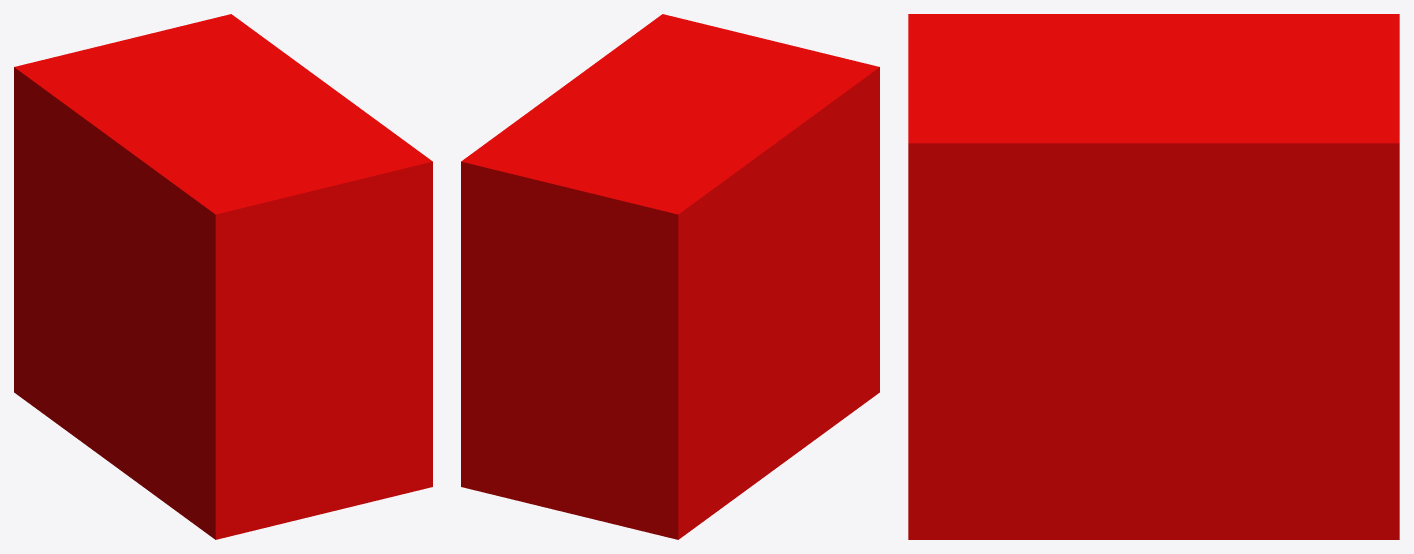
File: ribs_col.dae
The picture shows the model from 3 angles, left to right: view 1: azimuth 30°, elevation 25°; view 2: azimuth 150°, elevation 25°; view 3: azimuth 270°, elevation 25°; orthographic projection. The views are drawn at different scales.
Visible parts, largest first — view 1: node0; view 2: node0; view 3: node0.
Boxes of the visible parts, box(x1,y1,x2,y2) form: node0: box(14, 14, 432, 539); node0: box(461, 14, 879, 539); node0: box(908, 14, 1399, 539).
Size of the model in its own units: 0.1928 by 0.2758 by 0.3097.
